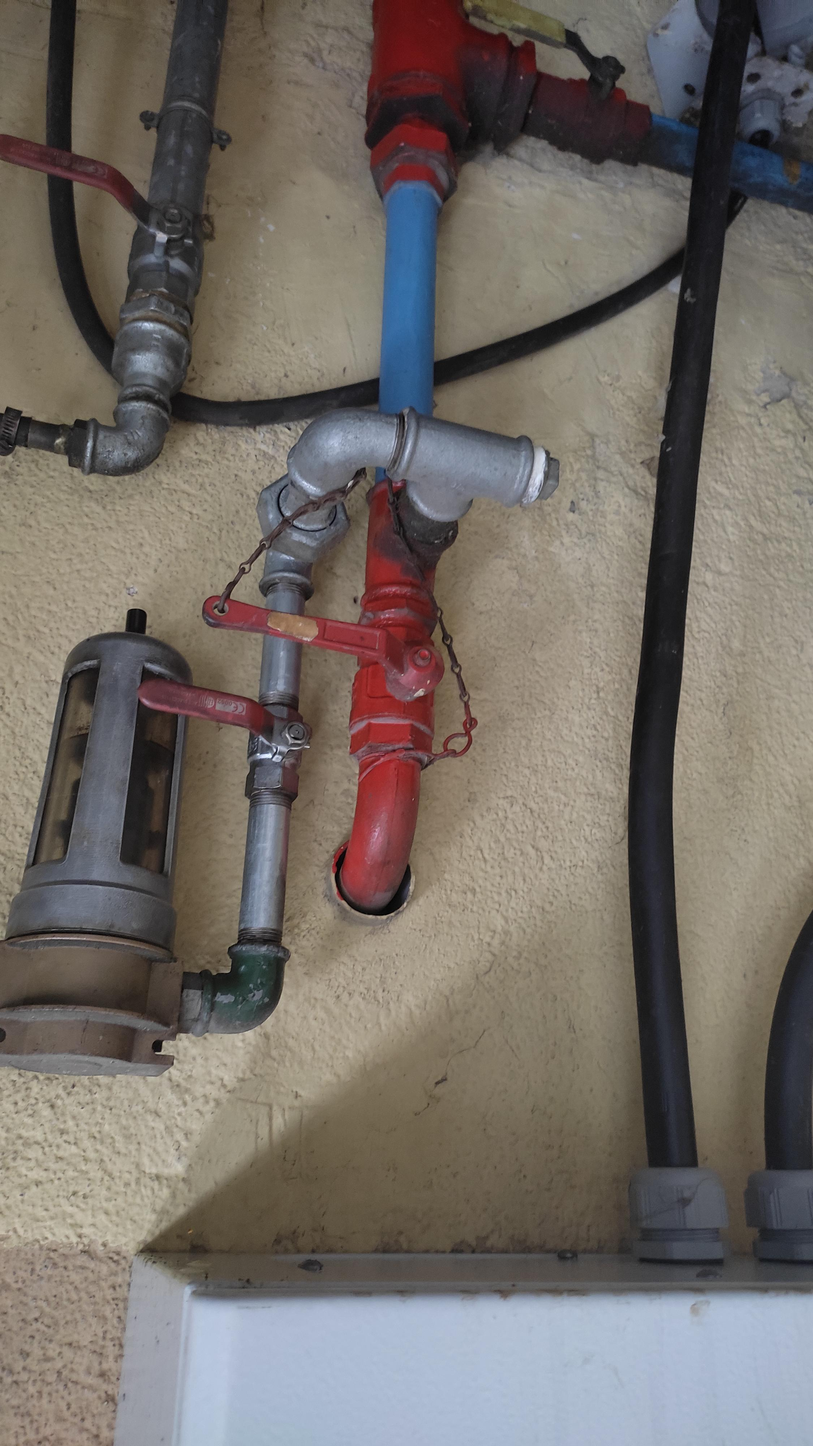closed valve: (0, 120, 217, 328), (198, 588, 451, 765), (133, 672, 308, 807)
opened valve: (446, 0, 665, 178)
